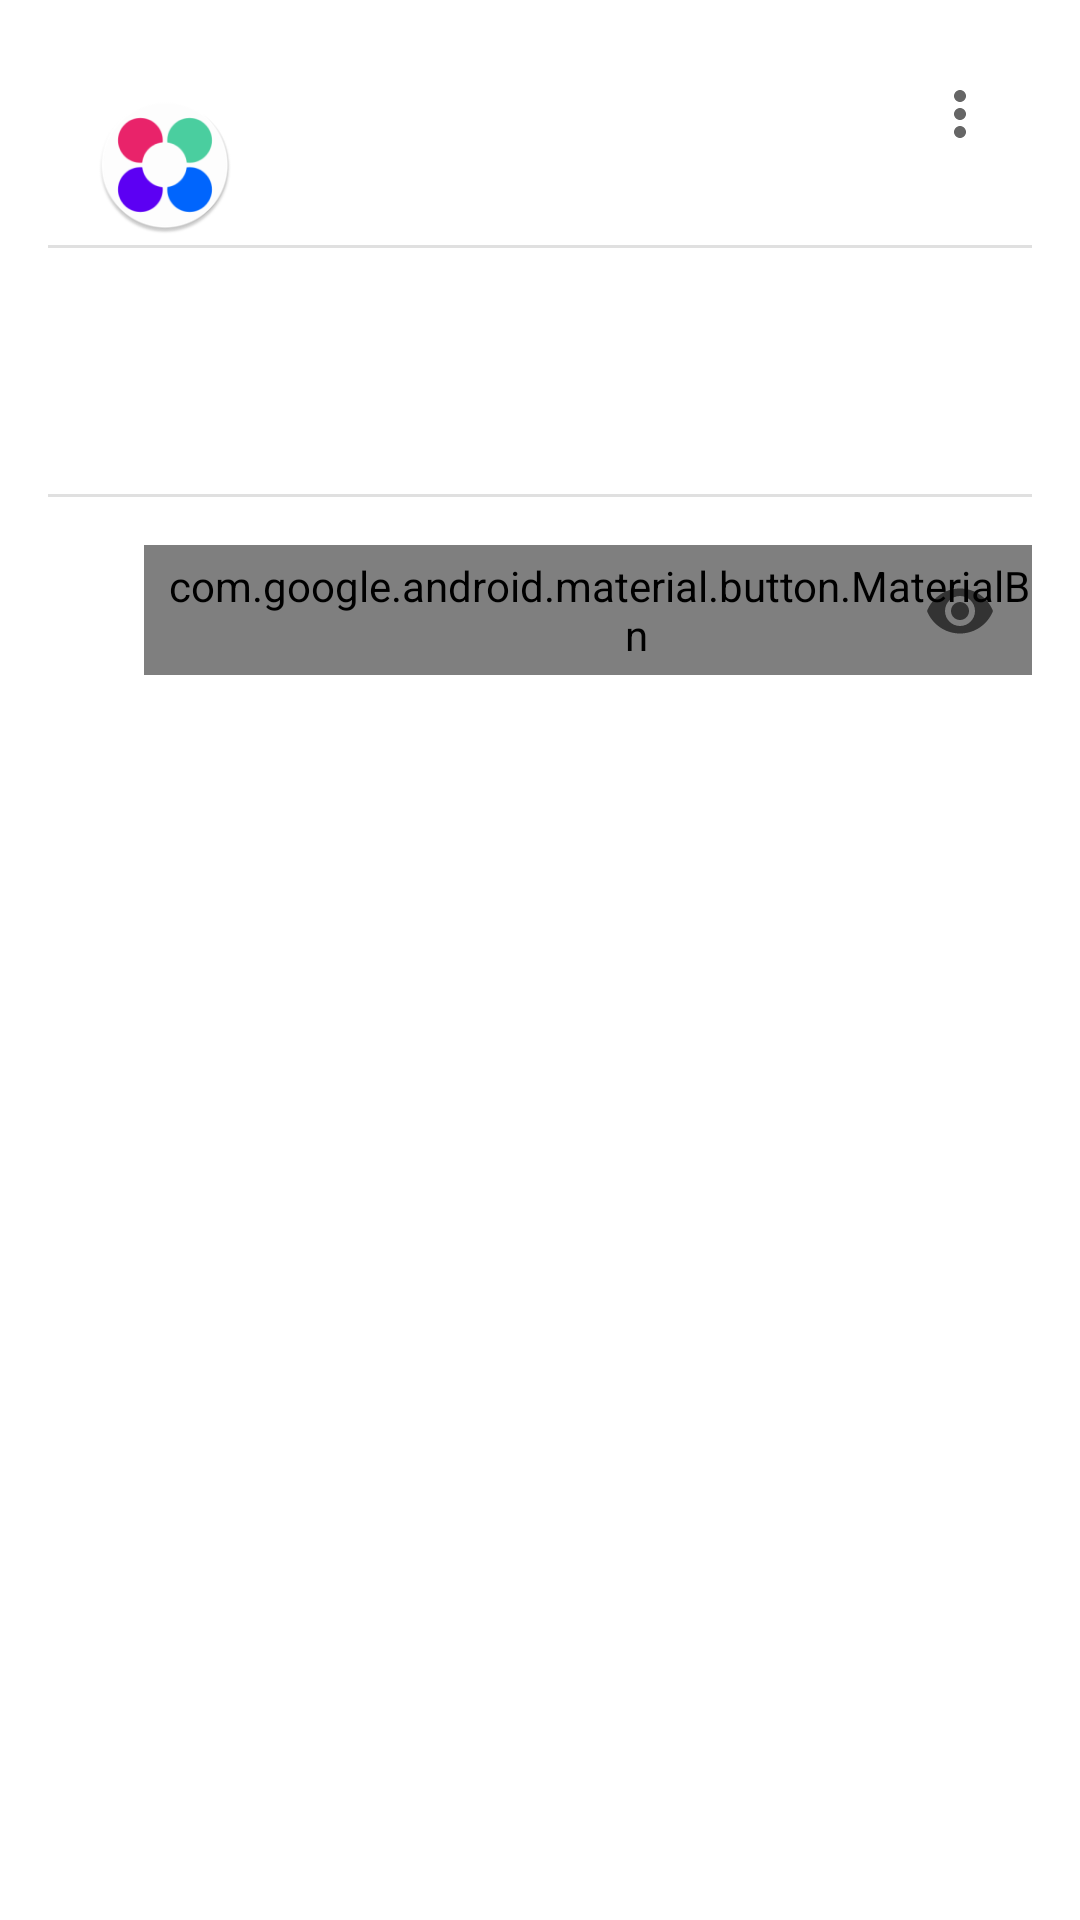

Icon click points for this 1080w x 1920h phone screenshot, format (x=x, y=y):
Post menu: (x=960, y=114)
